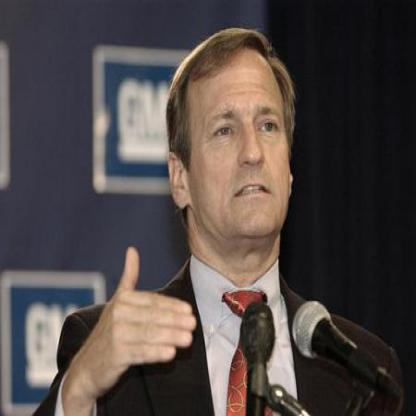face: (183, 31, 302, 254)
